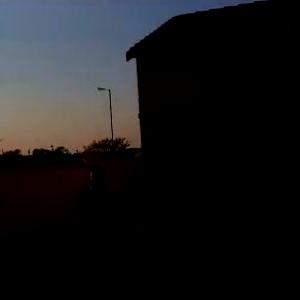follow: (70, 159, 122, 299)
